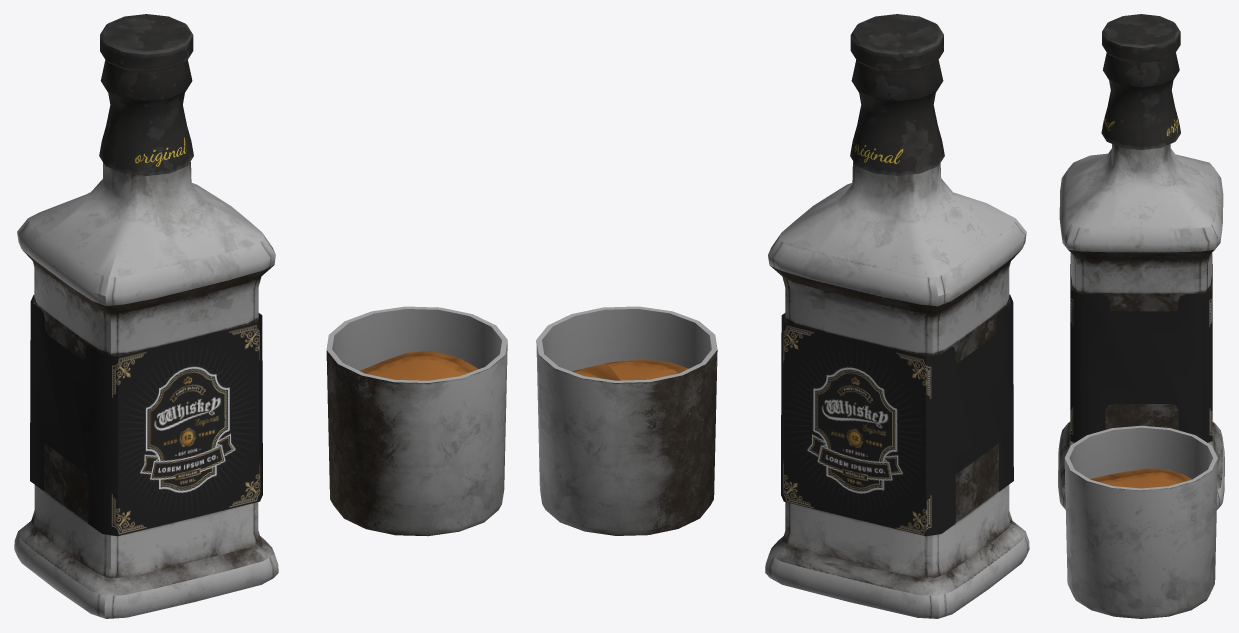
File: whiskey.fbx
The picture shows the model from 3 angles, left to right: view 1: azimuth 30°, elevation 25°; view 2: azimuth 150°, elevation 25°; view 3: azimuth 270°, elevation 25°; orthographic projection. The views are drawn at different scales.
Parts seen in each view (by area): view 1: Cube.002, Cube.000, Cylinder, Cylinder.002, Cylinder.001; view 2: Cube.002, Cube.000, Cylinder, Cylinder.002, Cylinder.001; view 3: Cube.002, Cylinder, Cube.000, Cylinder.002, Cylinder.001.
Boxes of the visible parts, box(x1,y1,x2,y2) form: Cube.002: box(14, 162, 278, 618); Cube.000: box(30, 295, 262, 536); Cylinder: box(326, 306, 507, 536); Cylinder.002: box(99, 14, 193, 175); Cylinder.001: box(359, 350, 478, 380); Cube.002: box(765, 161, 1029, 618); Cube.000: box(781, 294, 1013, 536); Cylinder: box(536, 306, 717, 535); Cylinder.002: box(850, 14, 944, 175); Cylinder.001: box(572, 359, 688, 380); Cube.002: box(1058, 144, 1224, 509); Cylinder: box(1064, 425, 1217, 618); Cube.000: box(1070, 253, 1212, 442); Cylinder.002: box(1101, 14, 1180, 149); Cylinder.001: box(1090, 468, 1191, 488).
Bounding box in the file's own units: 129 × 149 × 49.85.
